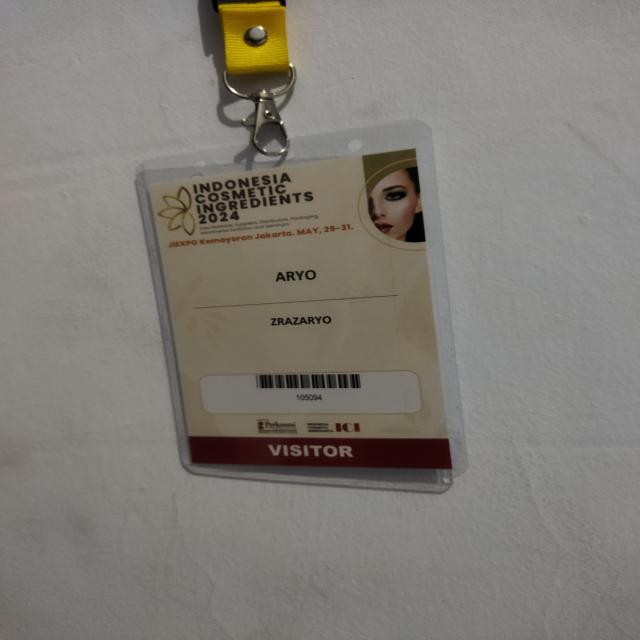ID_card: (133, 120, 468, 493)
